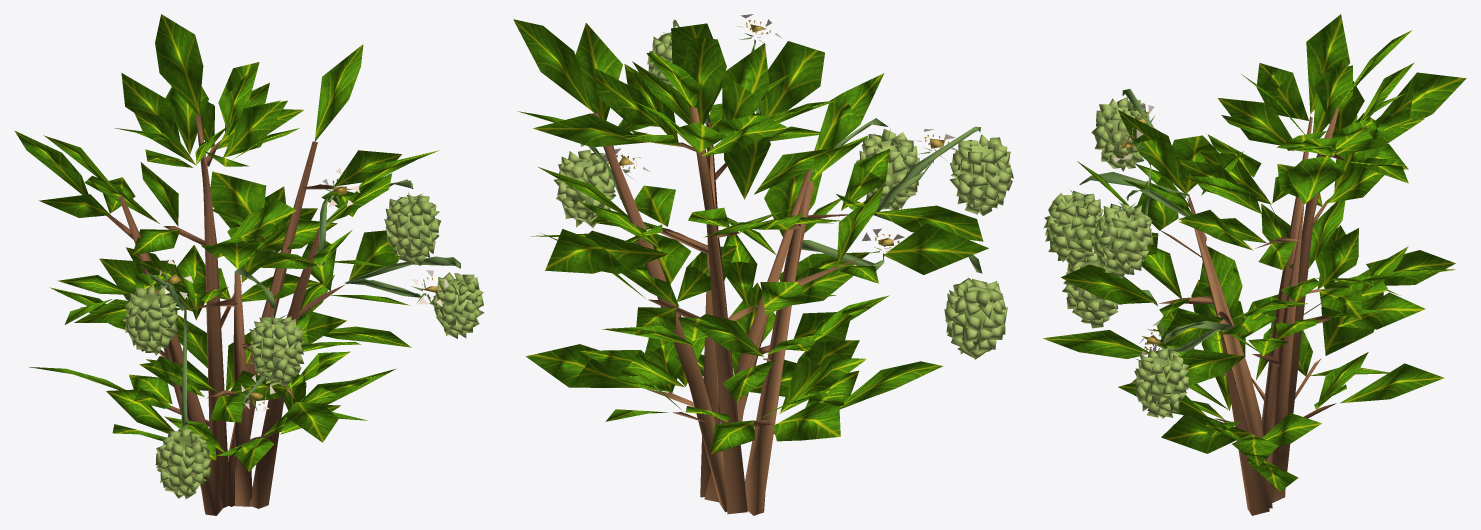
The model's file is NP_Raspberry_Flowering_LOD1.fbx.
3 views of the same model, side by side, from view 1: azimuth 30°, elevation 25°; view 2: azimuth 150°, elevation 25°; view 3: azimuth 270°, elevation 25° (orthographic). The views are drawn at different scales.
Parts seen in each view (by area): view 1: NP_Raspberry_Flowering; view 2: NP_Raspberry_Flowering; view 3: NP_Raspberry_Flowering.
Boxes of the visible parts, left/top/right/bottom form: NP_Raspberry_Flowering: left=15, top=14, right=484, bottom=515; NP_Raspberry_Flowering: left=513, top=14, right=1013, bottom=515; NP_Raspberry_Flowering: left=1043, top=14, right=1466, bottom=515.
Size of the model in its own units: 74.77 by 80.32 by 65.73.
